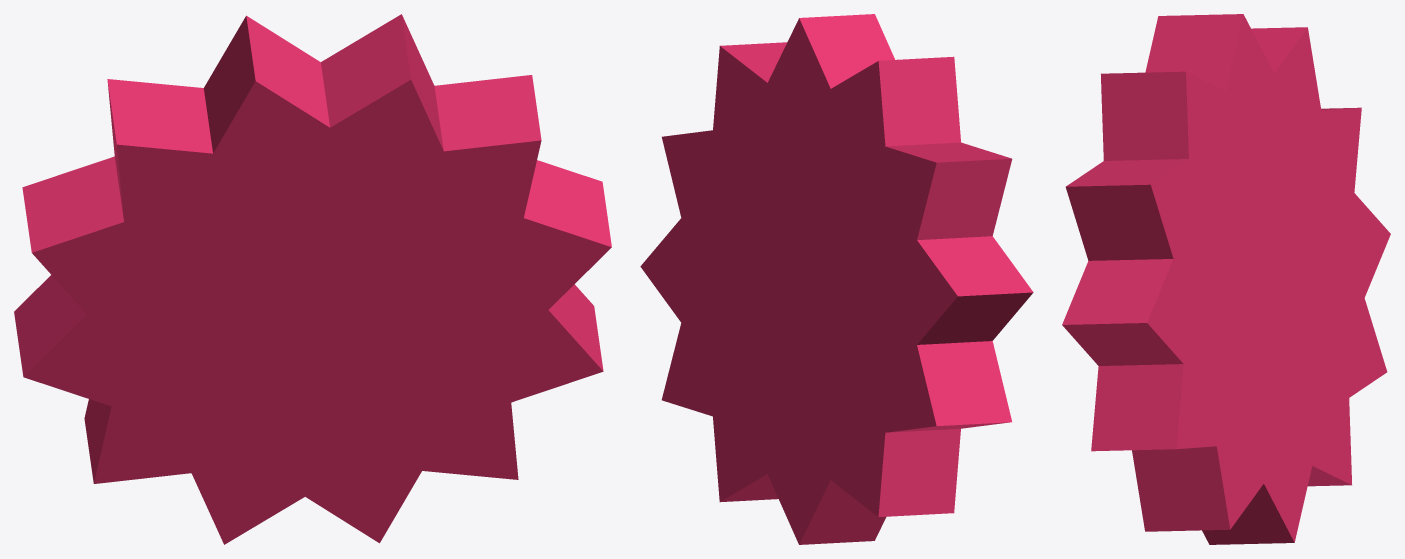
File: EstrelaV1.glb
3 renders of one model, left to right at view 1: azimuth 30°, elevation 25°; view 2: azimuth 150°, elevation 25°; view 3: azimuth 270°, elevation 25°, orthographic. The views are drawn at different scales.
Visible parts, largest first — view 1: EstrelaMenosPontas; view 2: EstrelaMenosPontas; view 3: EstrelaMenosPontas.
Part boxes in pixels (x1,y1,x2,y2): EstrelaMenosPontas: [14, 14, 611, 544]; EstrelaMenosPontas: [640, 14, 1033, 544]; EstrelaMenosPontas: [1062, 14, 1390, 544].
Bounding box in the file's own units: 0.2647 × 0.2709 × 0.1678.
